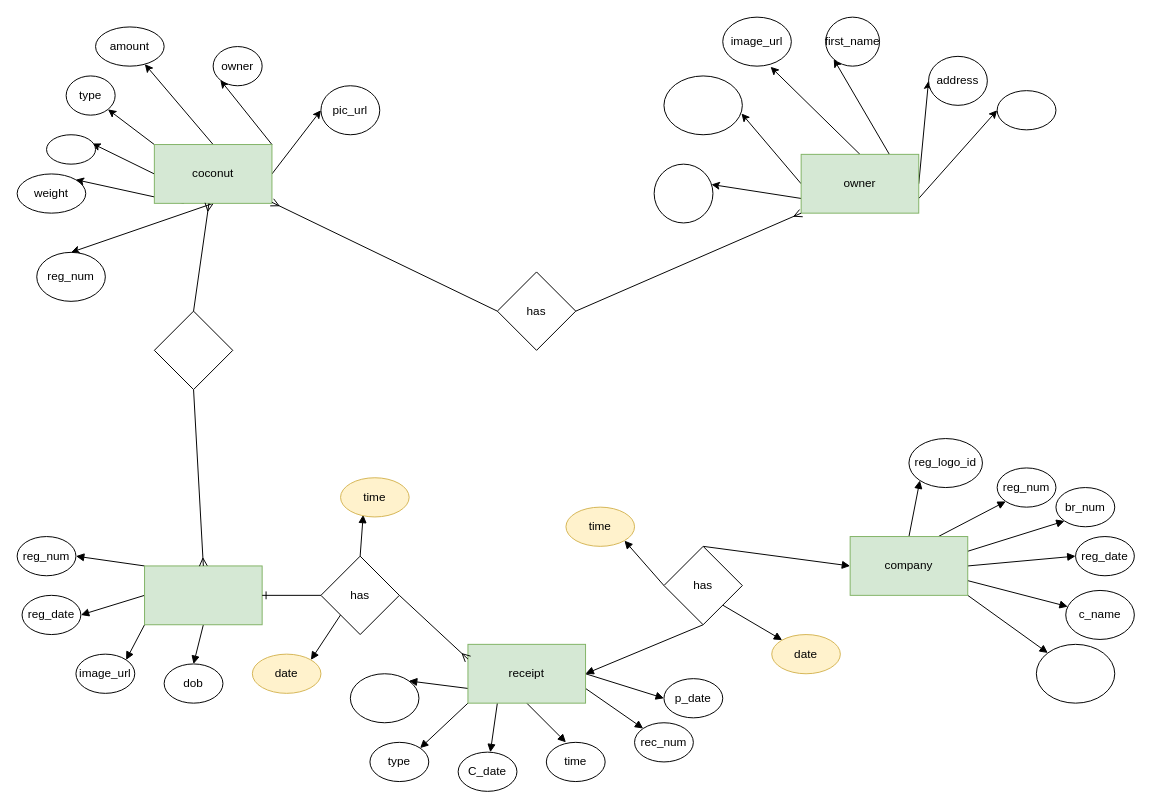
Image size: 1152x809. Some labels were removed from this diagram. Each missing label, with the centre of its shape:
buy: the point at 193,350
c_catogry: the point at 1075,673
customer: the point at 203,595
id: the point at 683,193
name with initals: the point at 702,105
num_items: the point at 384,698
price: the point at 71,149
reg_id: the point at 1026,110
